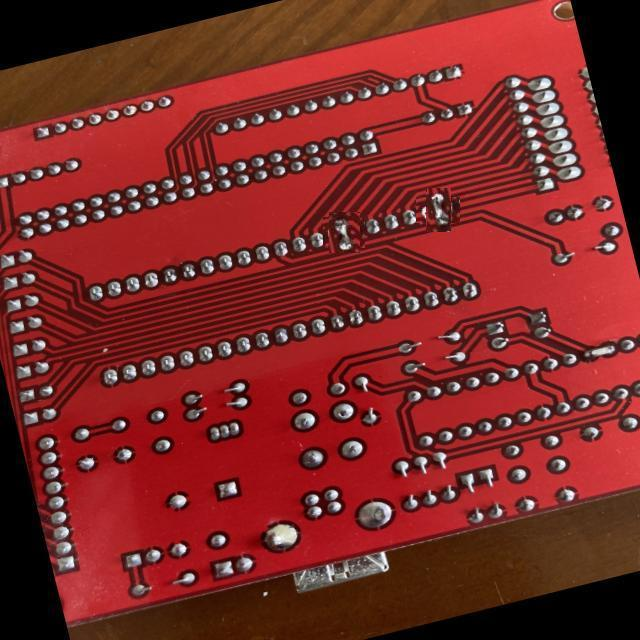damged: (326, 214, 363, 251), (421, 193, 456, 228)
